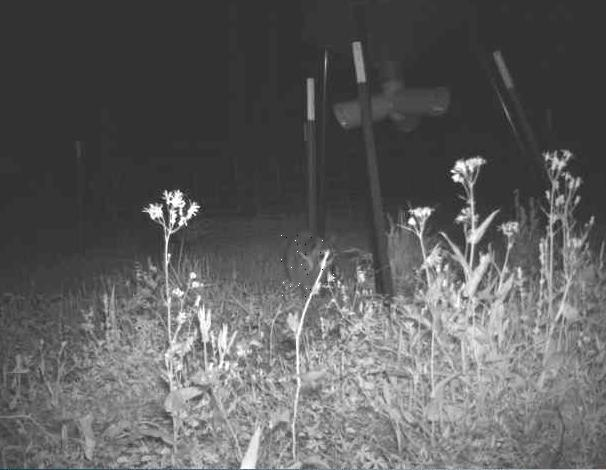Raccoon: (280, 229, 337, 298)
